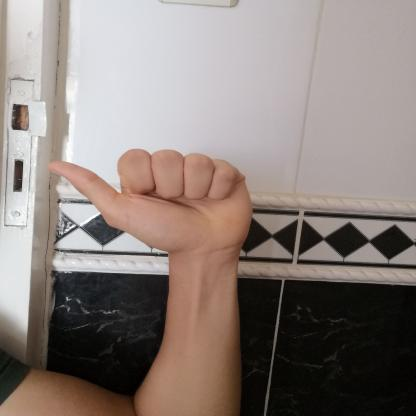DAD: (30, 138, 264, 264)
